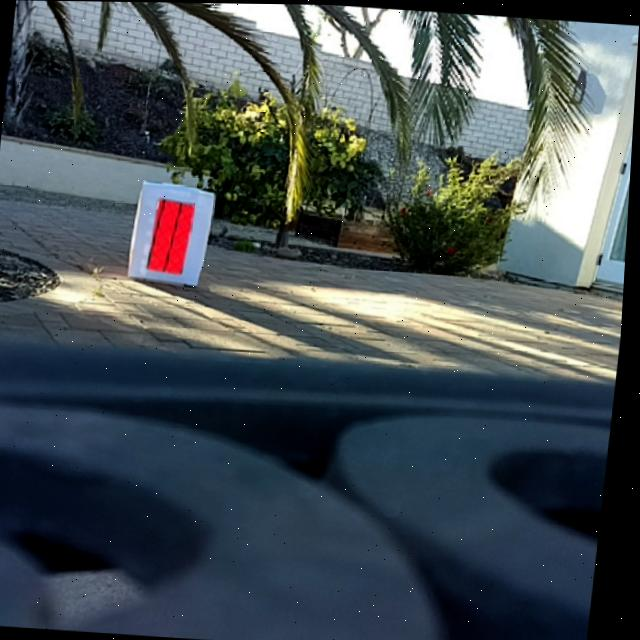led: (152, 198, 198, 275)
